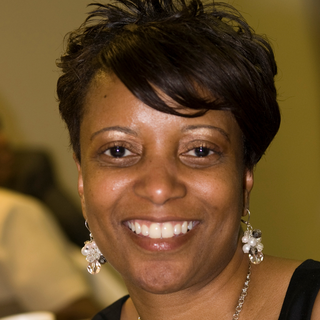eye: (96, 140, 141, 166), (179, 140, 224, 165)
